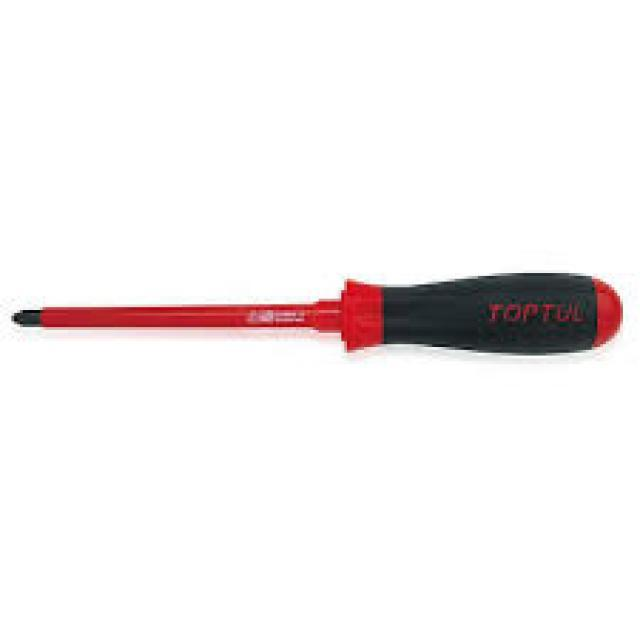screwdriver: (2, 272, 624, 360)
